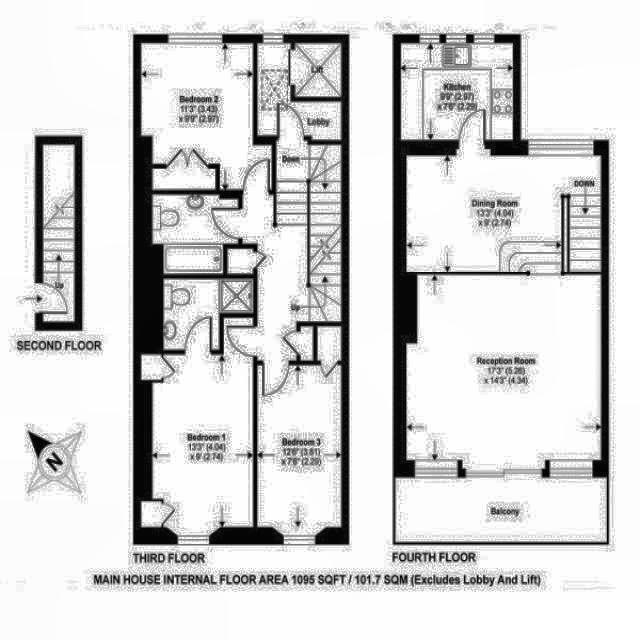room: (257, 43, 341, 135)
